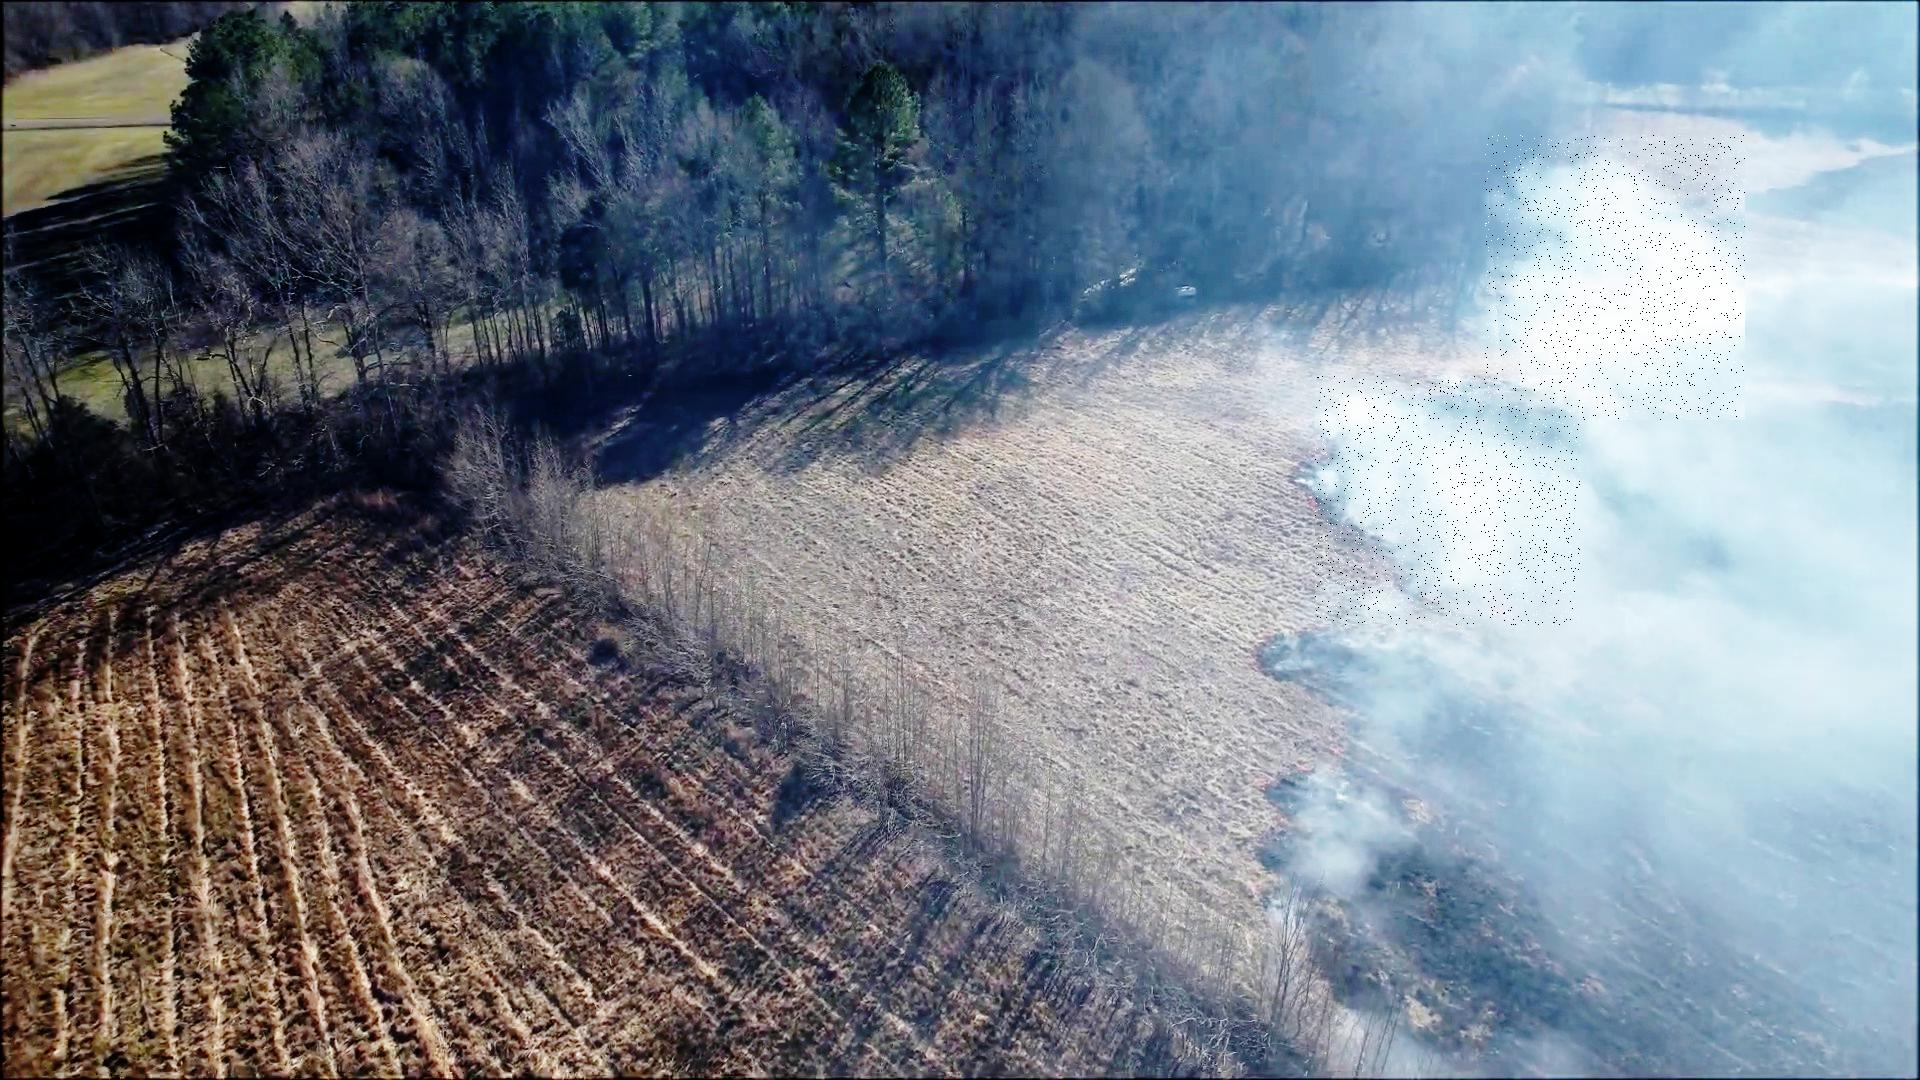smoke: (1485, 135, 1745, 419), (1315, 375, 1580, 625)
